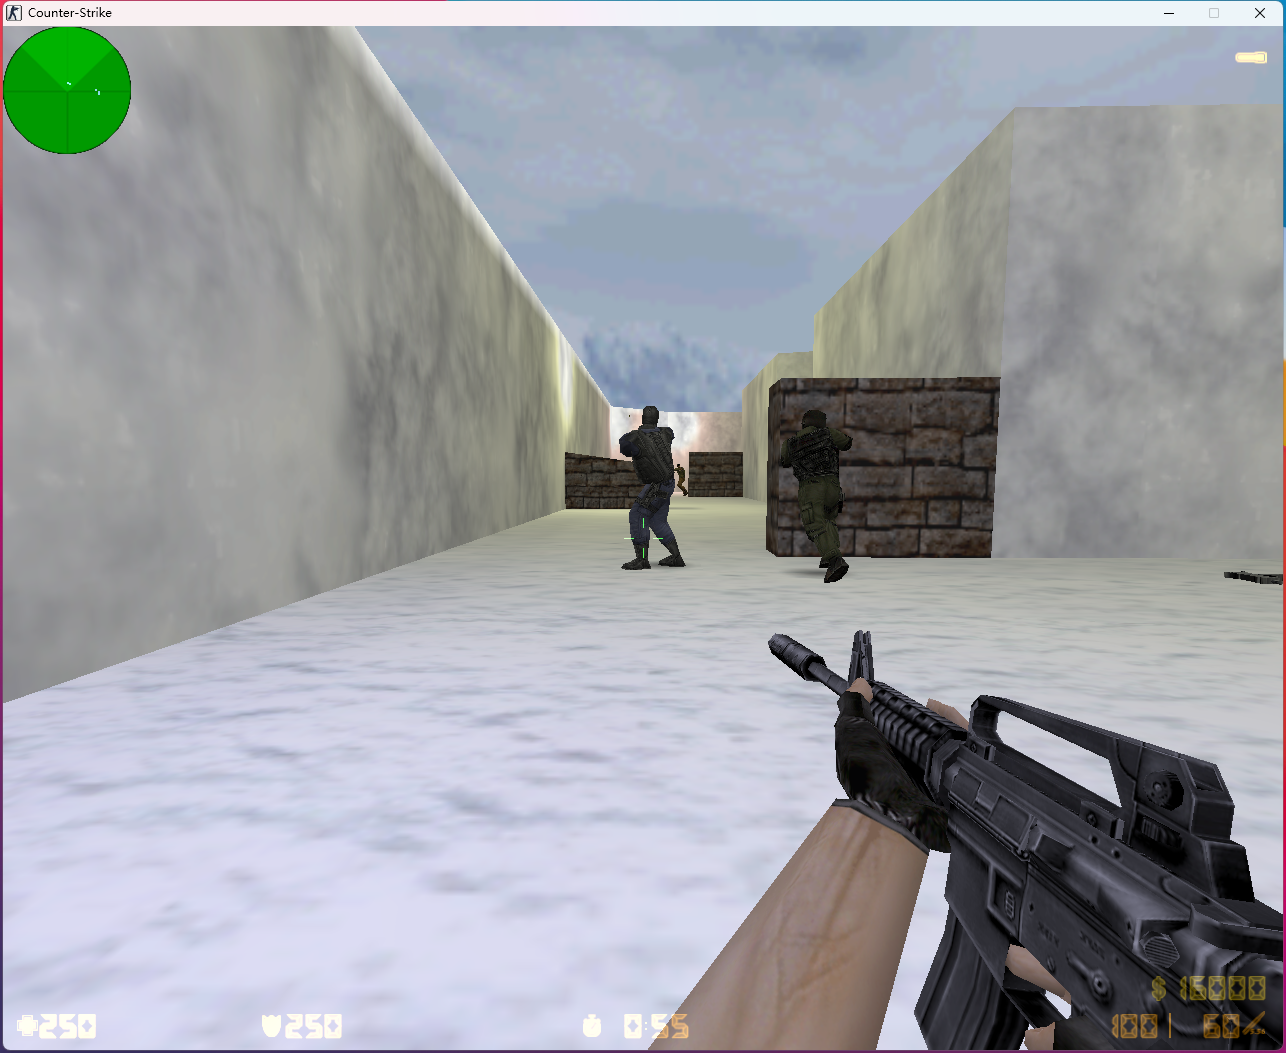C: (774, 409, 858, 586), (620, 407, 684, 571)
T: (674, 463, 691, 494)
